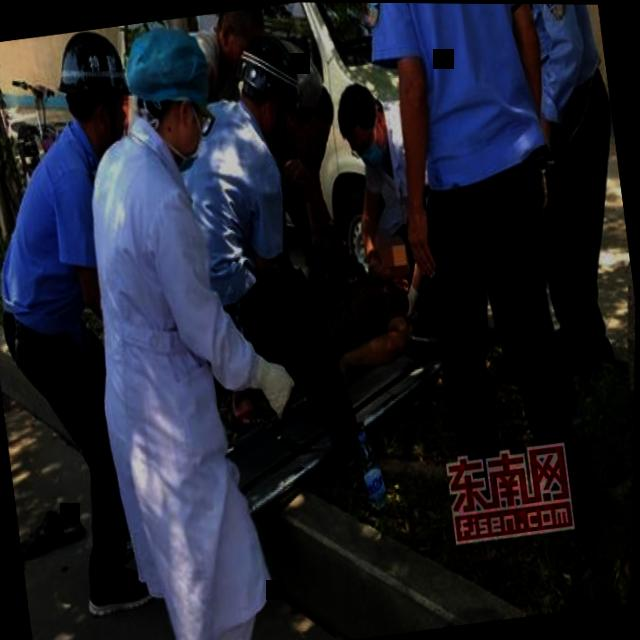Fall-Detected: (201, 179, 451, 440)
